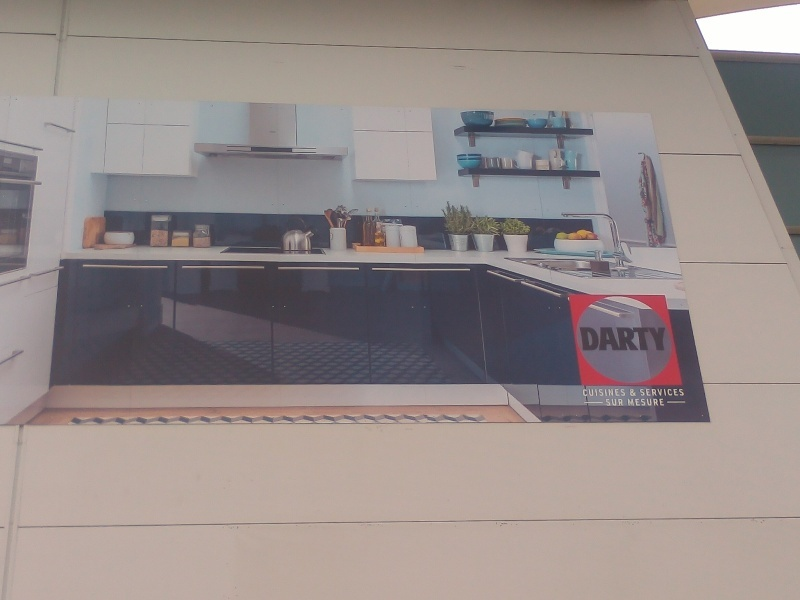text: (593, 327, 608, 351), (609, 327, 624, 351), (625, 327, 640, 351), (641, 327, 656, 351), (579, 327, 592, 351), (657, 327, 666, 351), (593, 388, 608, 397), (609, 388, 624, 397), (641, 389, 656, 397), (657, 389, 672, 397), (609, 399, 624, 407), (641, 399, 656, 406), (629, 389, 640, 397), (673, 389, 684, 397), (628, 399, 640, 406), (583, 388, 592, 397), (657, 399, 665, 406), (606, 399, 608, 407), (625, 388, 626, 397)
